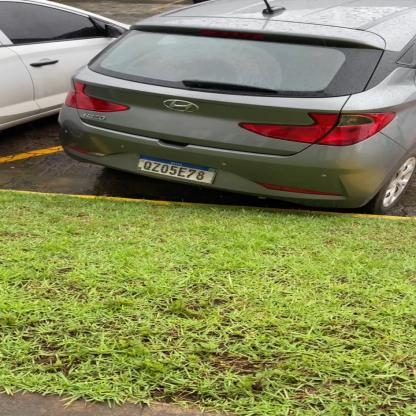Plate: (134, 147, 222, 190)
